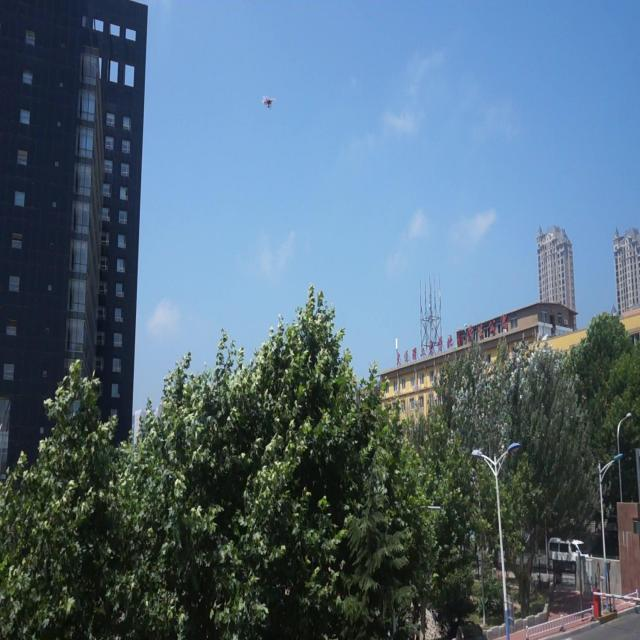UAV: (260, 94, 274, 109)
